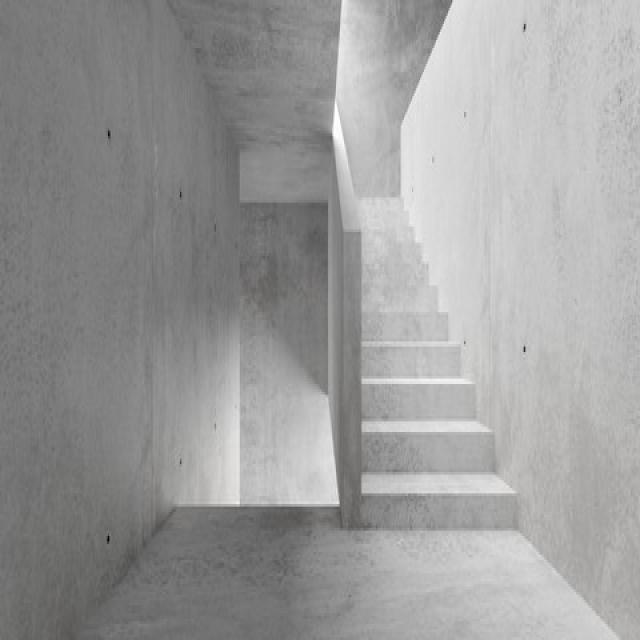stair: (360, 198, 515, 527)
